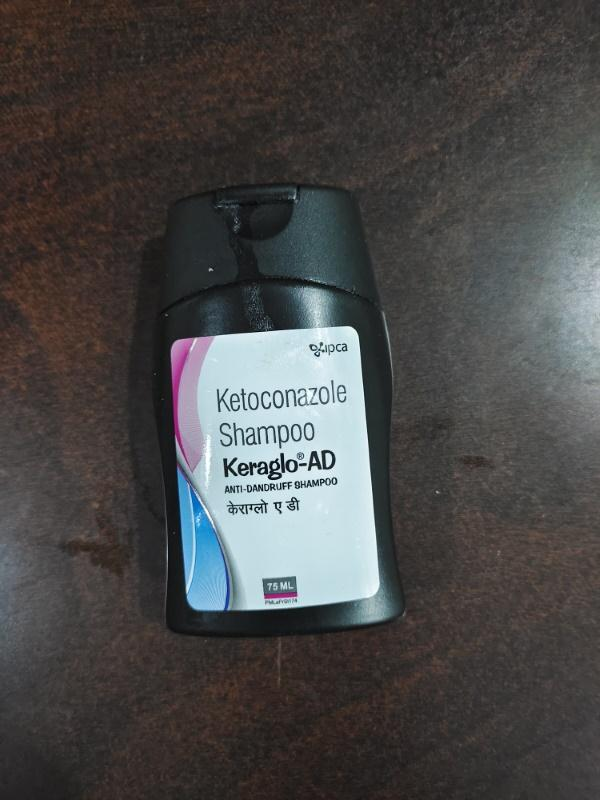KeraGlo: (116, 175, 430, 676)
